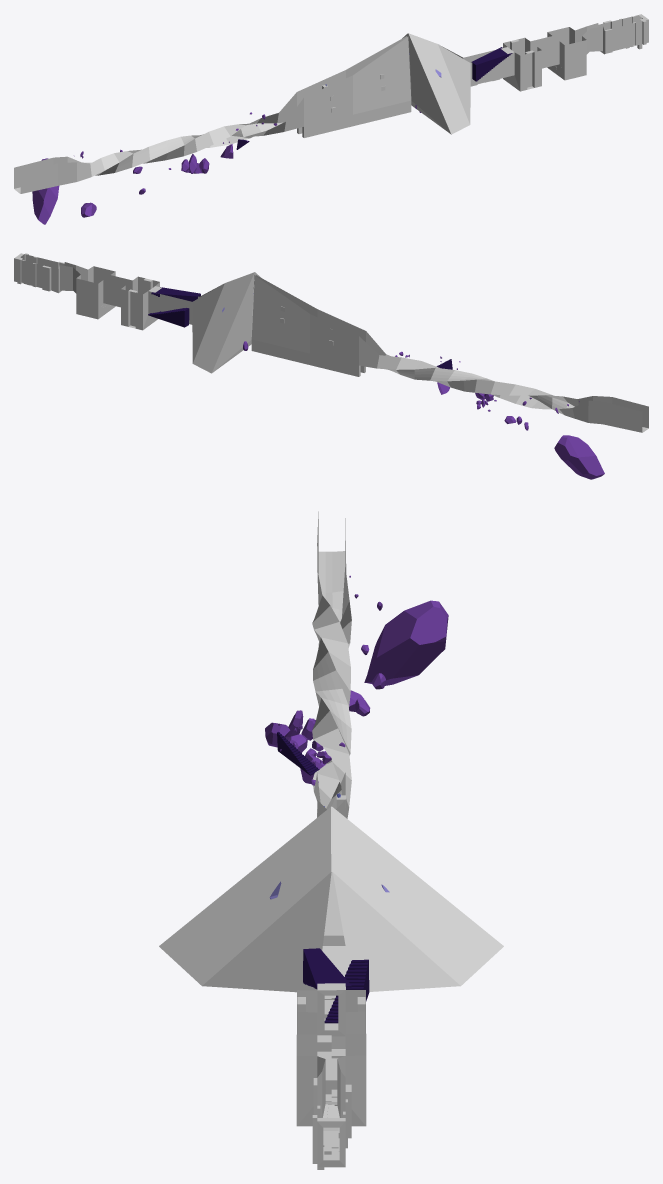
File: track_complete.fbx
3 renders of one model, top to bottom at view 1: azimuth 30°, elevation 25°; view 2: azimuth 150°, elevation 25°; view 3: azimuth 270°, elevation 25°, orthographic. The views are drawn at different scales.
Parts seen in each view (by area): view 1: track, rock8, stair1, rock_all; view 2: track, rock8, stair2, stair1; view 3: track, rock8, rock_all, stair1, stair2.
Part boxes in pixels (left/top/right/bottom): track: left=14, top=14, right=648, bottom=193; rock8: left=32, top=158, right=59, bottom=224; stair1: left=471, top=47, right=512, bottom=81; rock_all: left=181, top=154, right=209, bottom=173; track: left=14, top=253, right=648, bottom=432; rock8: left=554, top=435, right=604, bottom=479; stair2: left=148, top=308, right=189, bottom=327; stair1: left=151, top=287, right=200, bottom=301; track: left=159, top=511, right=503, bottom=1169; rock8: left=364, top=600, right=448, bottom=685; rock_all: left=265, top=710, right=327, bottom=757; stair1: left=303, top=948, right=351, bottom=989; stair2: left=324, top=959, right=369, bottom=1023.
Size of the model in its own units: 305 by 51.82 by 72.72.
